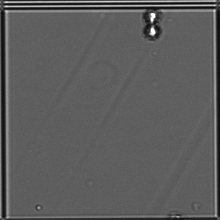Living Cell: (140, 23, 164, 41), (142, 8, 162, 25)
